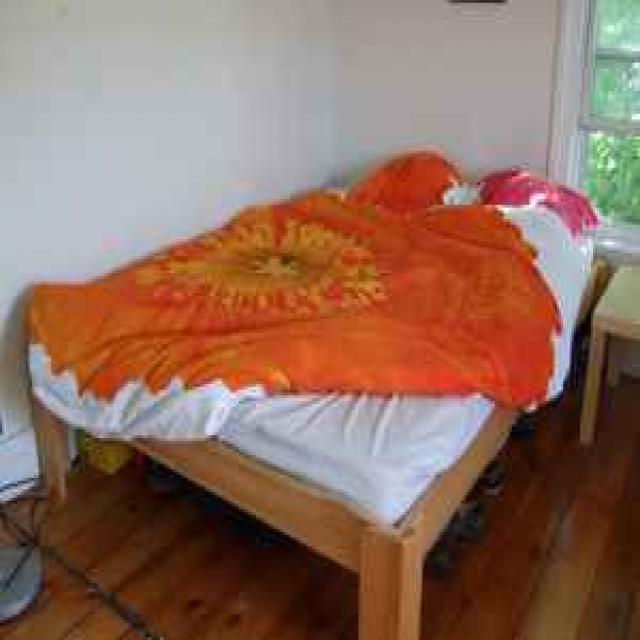2001: (570, 11, 636, 222)
bed -occluded-: (28, 154, 604, 637)
duvet: (28, 185, 589, 435)
floor -X: (2, 262, 636, 637)
table lamp: (578, 259, 636, 438)
wall clock: (2, 0, 333, 501), (333, 3, 636, 375)
